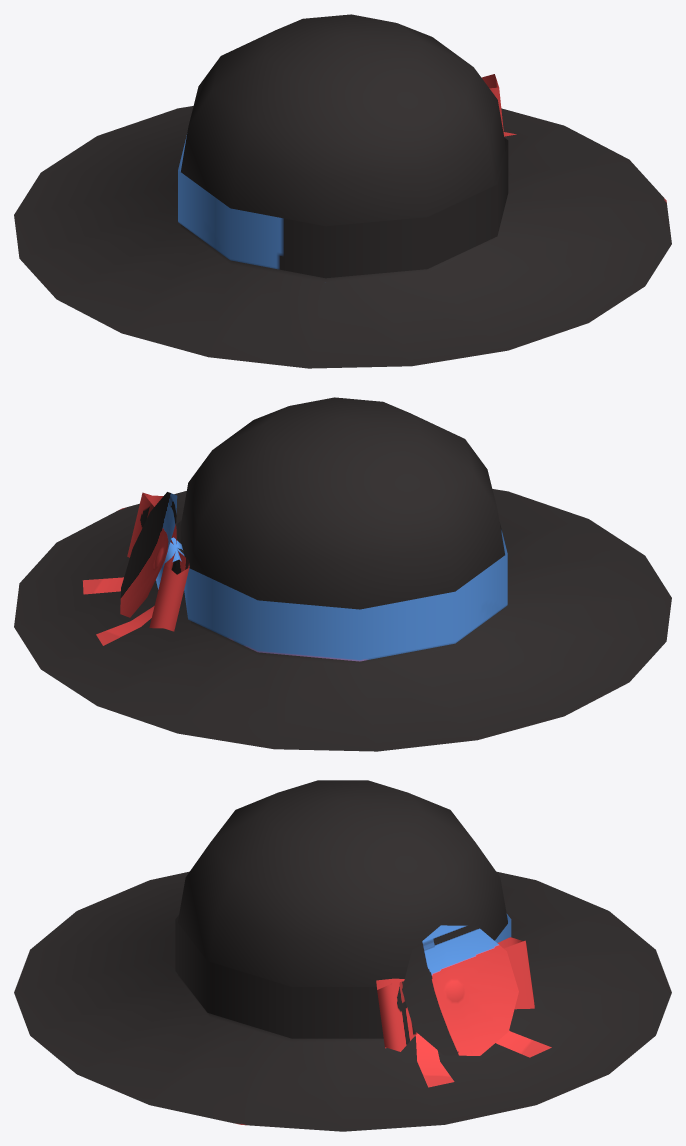
File: strawhat.fbx
3 views of the same model, one above another, from view 1: azimuth 30°, elevation 25°; view 2: azimuth 150°, elevation 25°; view 3: azimuth 270°, elevation 25° (orthographic).
Parts seen in each view (by area): view 1: Circle; view 2: Circle; view 3: Circle.
Part boxes in pixels (<box>): Circle: <box>14,14,671,368</box>; Circle: <box>14,397,671,751</box>; Circle: <box>14,780,671,1131</box>.
Bounding box in the file's own units: 415 × 134 × 415.
